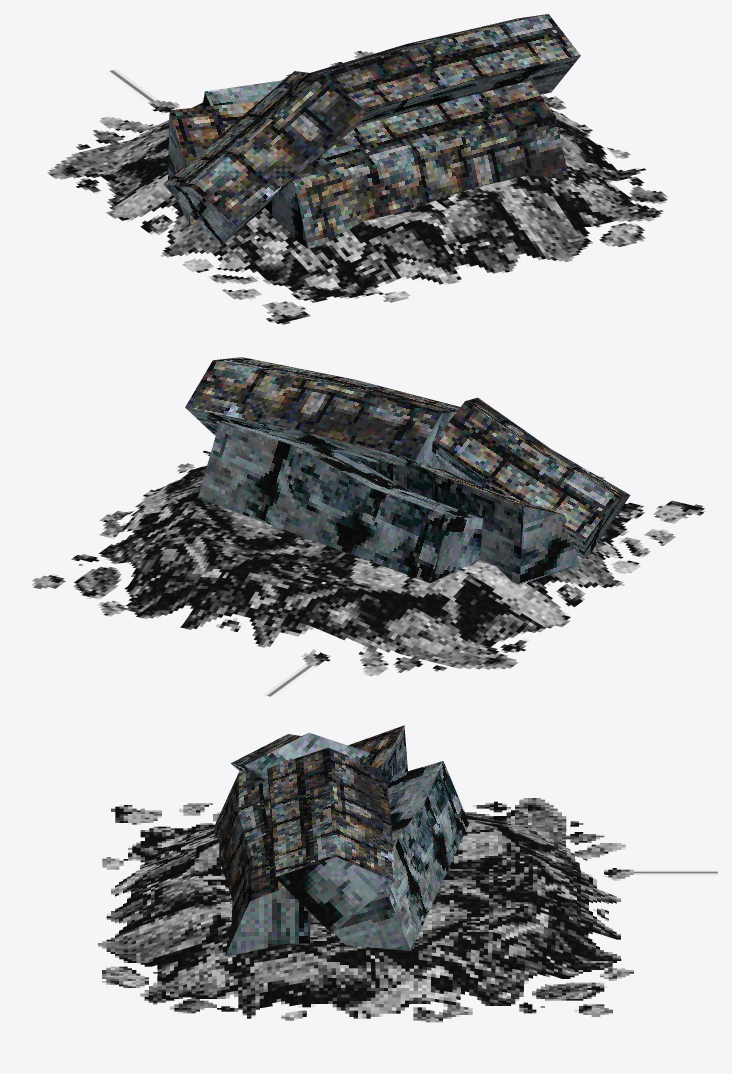
File: debris-charcoal.glb
The picture shows the model from 3 angles, top to bottom: view 1: azimuth 30°, elevation 25°; view 2: azimuth 150°, elevation 25°; view 3: azimuth 270°, elevation 25°; orthographic projection.
Parts seen in each view (by area): view 1: debris-charcoal.001; view 2: debris-charcoal.001; view 3: debris-charcoal.001.
Boxes of the visible parts, x1,y1,x2,y2 form: debris-charcoal.001: [47, 14, 668, 324]; debris-charcoal.001: [32, 357, 705, 696]; debris-charcoal.001: [98, 725, 717, 1022].
Size of the model in its own units: 1.63 by 0.3671 by 1.63.
Materials: 2 (2 with a texture image).
